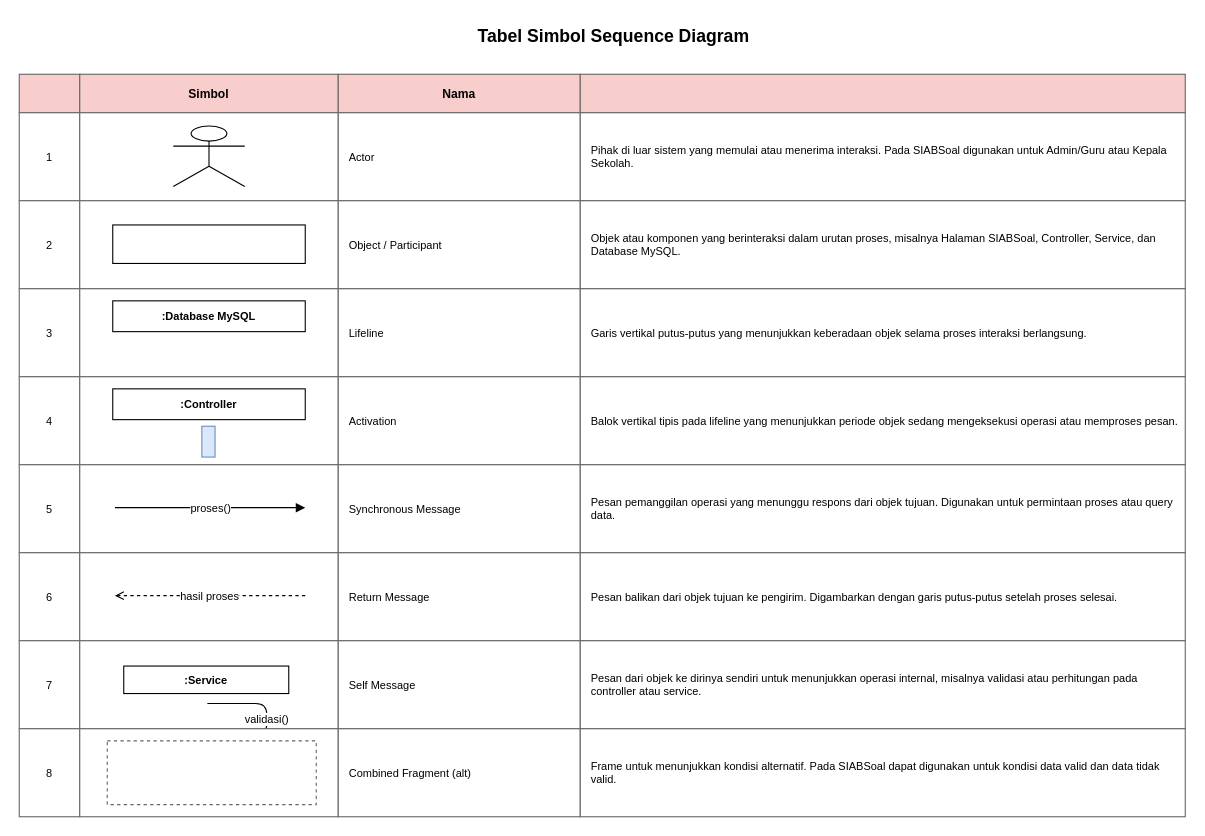
This 1205x836 diagram has some shape labels left out. The shapes that lost their labels are listed below. From the top down, each one's box as (x1, y1, x2, y2) in pixels, then its label:
(18, 73, 80, 113): No.
(579, 73, 1185, 113): Keterangan
(172, 125, 245, 186): Admin / Guru
(112, 224, 305, 263): :Halaman SIABSoal
(106, 740, 316, 805): alt [data valid] simpan data [data tidak valid] tampilkan pesan kesalahan
